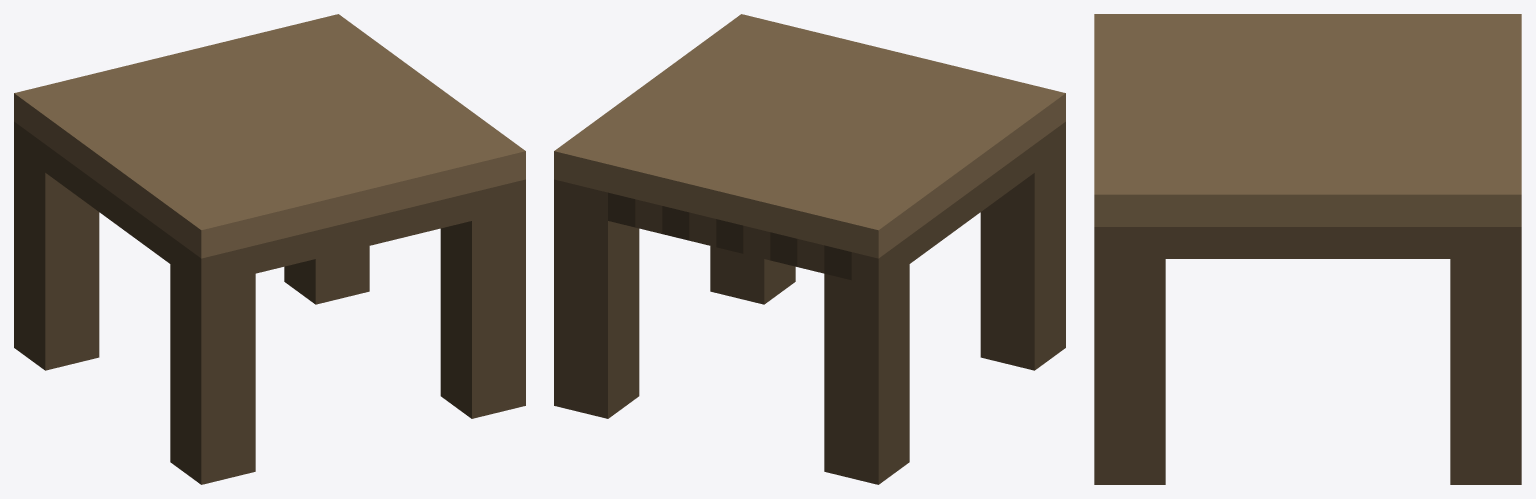
The model's file is especiero_nogal_tallado_01.glb.
3 views of the same model, side by side, from view 1: azimuth 30°, elevation 25°; view 2: azimuth 150°, elevation 25°; view 3: azimuth 270°, elevation 25° (orthographic). The views are drawn at different scales.
Parts seen in each view (by area): view 1: especiero_nogal_tallado; view 2: especiero_nogal_tallado; view 3: especiero_nogal_tallado.
Boxes of the visible parts, x1,y1,x2,y2 form: especiero_nogal_tallado: [14, 14, 525, 484]; especiero_nogal_tallado: [554, 14, 1065, 484]; especiero_nogal_tallado: [1094, 14, 1521, 484].
Bounding box in the file's own units: 1 × 0.75 × 1.
